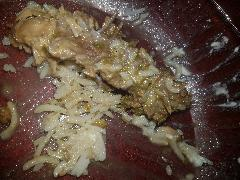organic: (7, 3, 203, 138)
